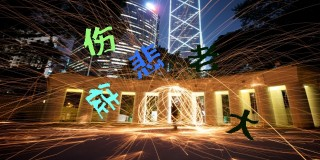伤: (82, 24, 116, 55)
大: (225, 109, 259, 141)
徒: (84, 82, 122, 119)
悲: (128, 42, 164, 78)
老: (188, 43, 219, 72)
